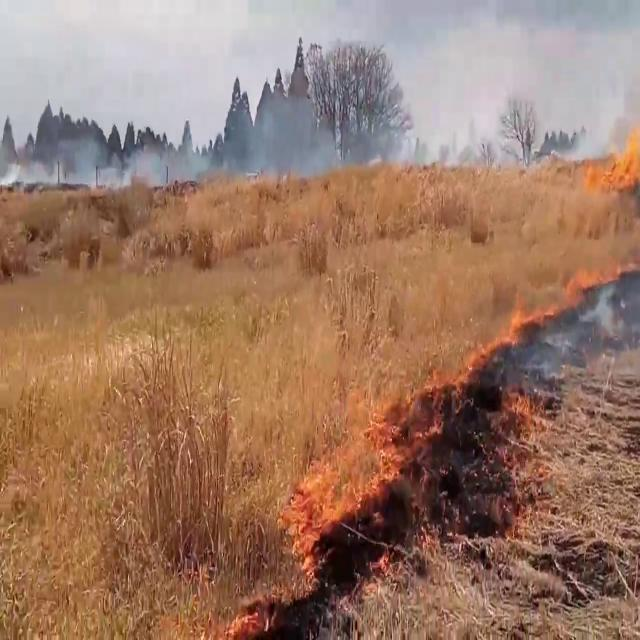Fire: (293, 457, 378, 579), (576, 100, 640, 196), (364, 388, 425, 482), (506, 388, 557, 493), (482, 297, 537, 355)
Smoke: (216, 84, 355, 173), (10, 127, 209, 185)
